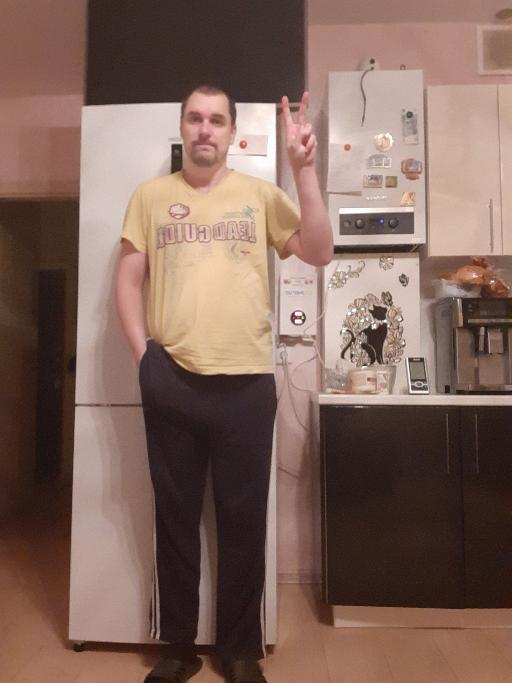peace: (277, 88, 320, 168)
